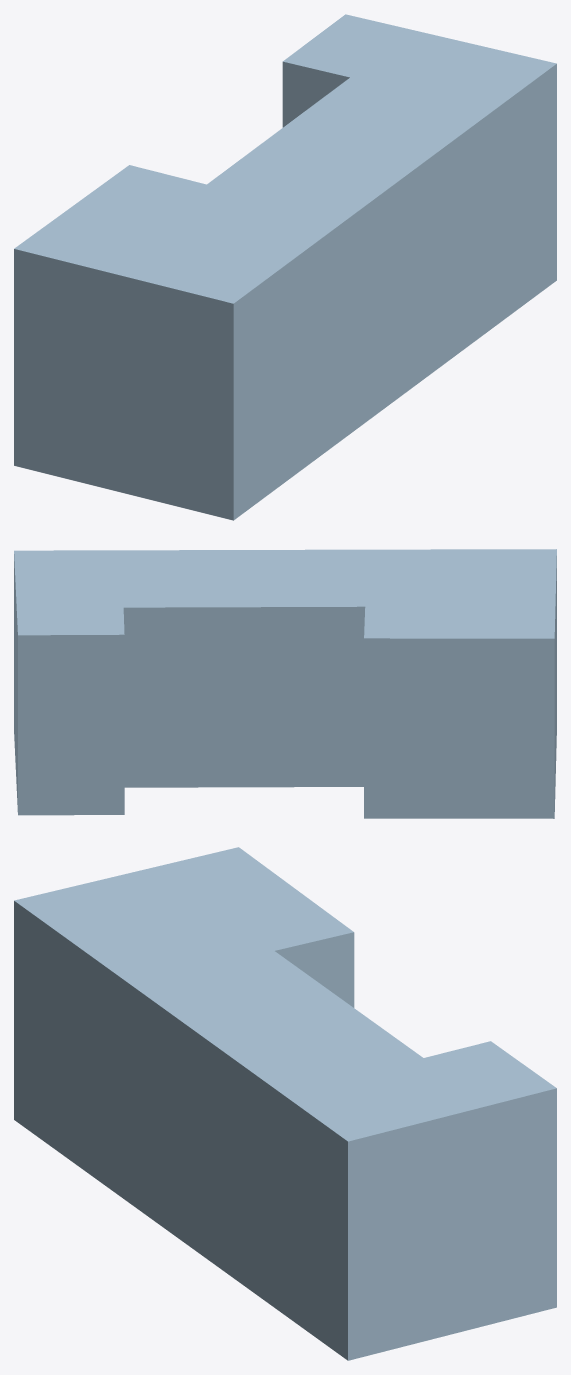
File: osm_way_1173057034.glb
3 views of the same model, one above another, from view 1: azimuth 30°, elevation 25°; view 2: azimuth 150°, elevation 25°; view 3: azimuth 270°, elevation 25° (orthographic). The views are drawn at different scales.
Visible parts, largest first — view 1: osm_way_1173057034; view 2: osm_way_1173057034; view 3: osm_way_1173057034.
Part boxes in pixels (<box>): osm_way_1173057034: <box>14,14,556,520</box>; osm_way_1173057034: <box>14,549,556,818</box>; osm_way_1173057034: <box>14,847,556,1360</box>.
Size of the model in its own units: 55.31 by 19.2 by 43.09.
